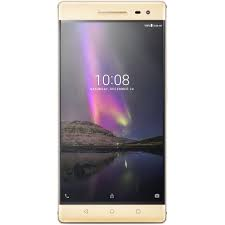lenovo: (55, 1, 168, 223)
